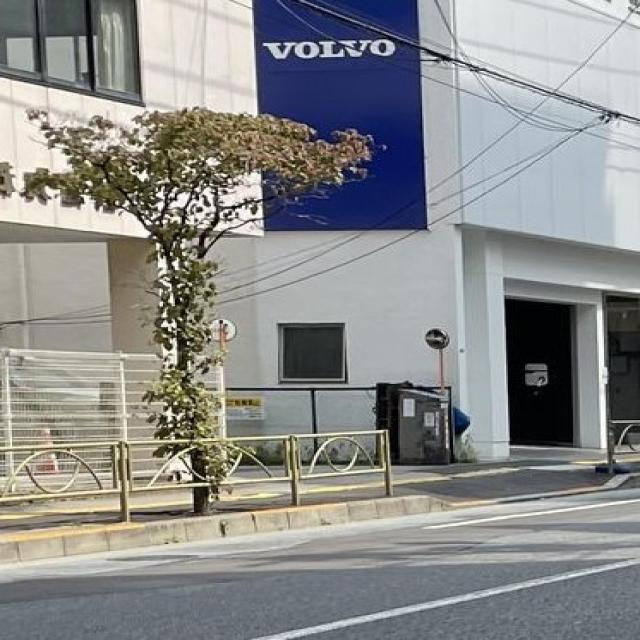dogwood: (0, 104, 389, 514)
